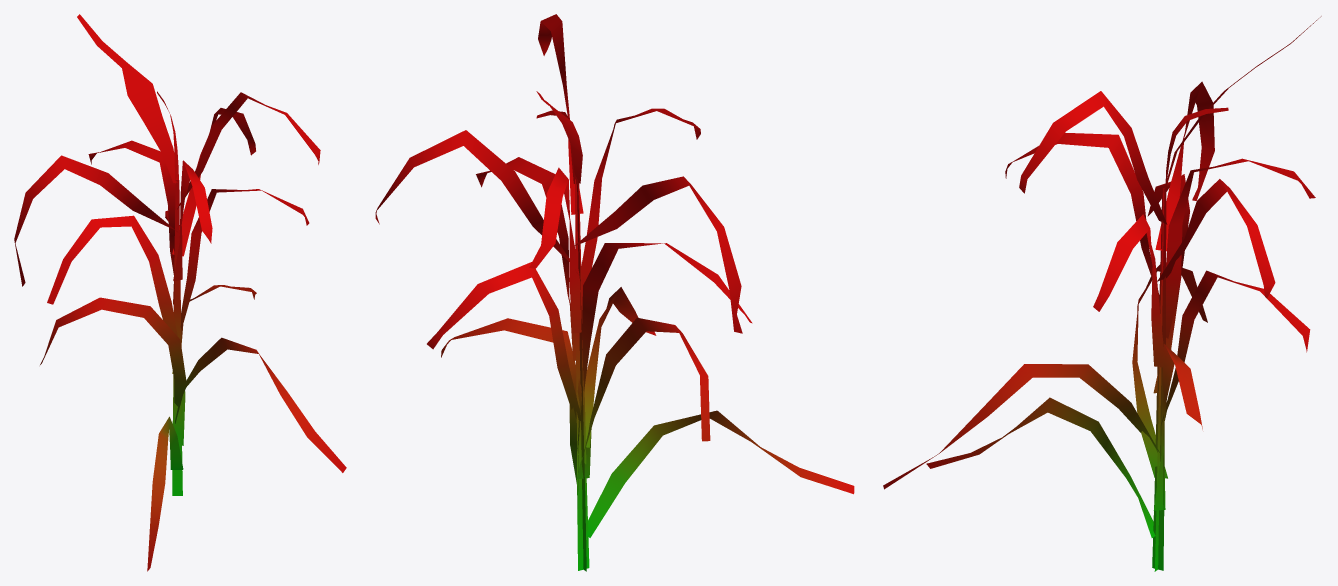
File: Great Brome_LOD3_Var5_tjugaikia.fbx
3 views of the same model, side by side, from view 1: azimuth 30°, elevation 25°; view 2: azimuth 150°, elevation 25°; view 3: azimuth 270°, elevation 25° (orthographic). The views are drawn at different scales.
Parts seen in each view (by area): view 1: _e58e_Var5_LOD3; view 2: _e58e_Var5_LOD3; view 3: _e58e_Var5_LOD3.
Boxes of the visible parts, x1,y1,x2,y2 form: _e58e_Var5_LOD3: [14, 14, 346, 571]; _e58e_Var5_LOD3: [375, 14, 854, 571]; _e58e_Var5_LOD3: [883, 16, 1321, 571].
Size of the model in its own units: 50.22 by 79.15 by 58.79.
